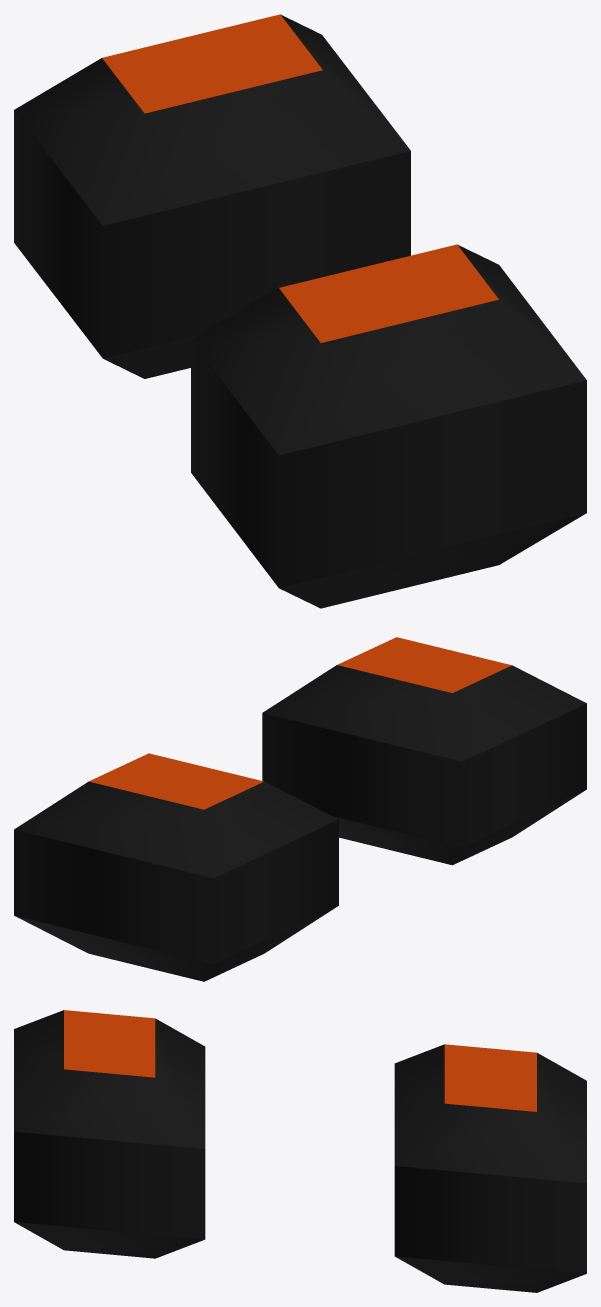
Rendered from DoublePoint.fbx.
3 renders of one model, top to bottom at view 1: azimuth 30°, elevation 25°; view 2: azimuth 150°, elevation 25°; view 3: azimuth 270°, elevation 25°, orthographic. The views are drawn at different scales.
Visible parts, largest first — view 1: Text; view 2: Text; view 3: Text.
Part boxes in pixels (<box>): Text: <box>14,14,586,608</box>; Text: <box>14,637,586,981</box>; Text: <box>14,1010,586,1292</box>.
Bounding box in the file's own units: 0.2923 × 0.16 × 0.4592.
